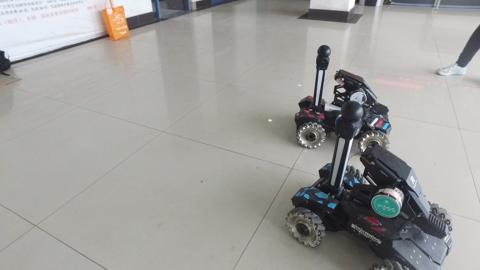chariot: (269, 96, 462, 270), (286, 41, 400, 158)
